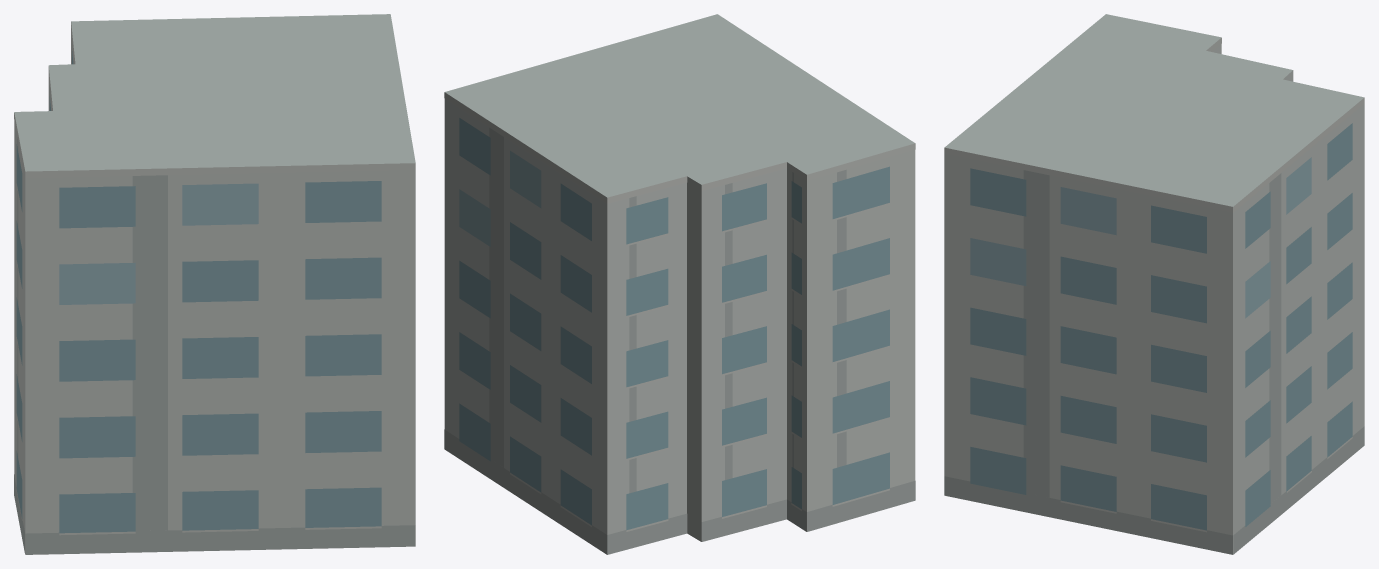
Rendered from survey-upis-32806977.glb.
The picture shows the model from 3 angles, left to right: view 1: azimuth 30°, elevation 25°; view 2: azimuth 150°, elevation 25°; view 3: azimuth 270°, elevation 25°; orthographic projection. The views are drawn at different scales.
Visible parts, largest first — view 1: survey-upis-32806977.tmp; view 2: survey-upis-32806977.tmp; view 3: survey-upis-32806977.tmp.
Part boxes in pixels (x1,y1,x2,y2): survey-upis-32806977.tmp: (14,14,415,554); survey-upis-32806977.tmp: (444,14,915,554); survey-upis-32806977.tmp: (944,14,1364,554).
Bounding box in the file's own units: 16.35 × 13.75 × 15.06.
